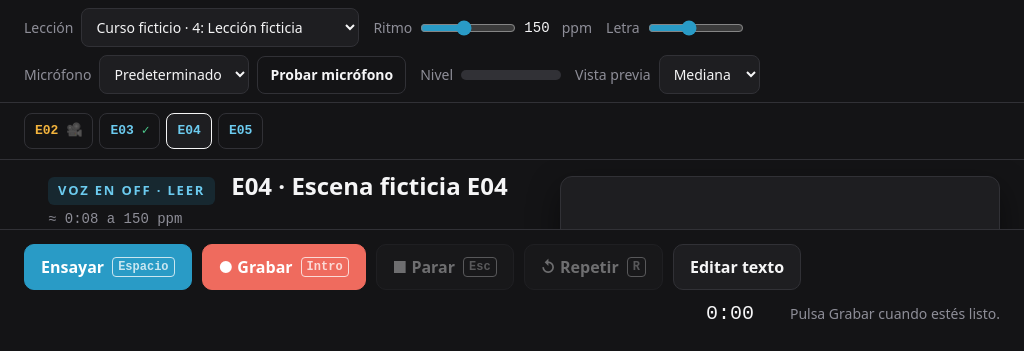
Test: Teleprompter › la toma ya grabada se carga con su versión
The image size is (1024, 351).
Click the button "E03 ✓" at (130, 131), box [99, 113, 160, 149]
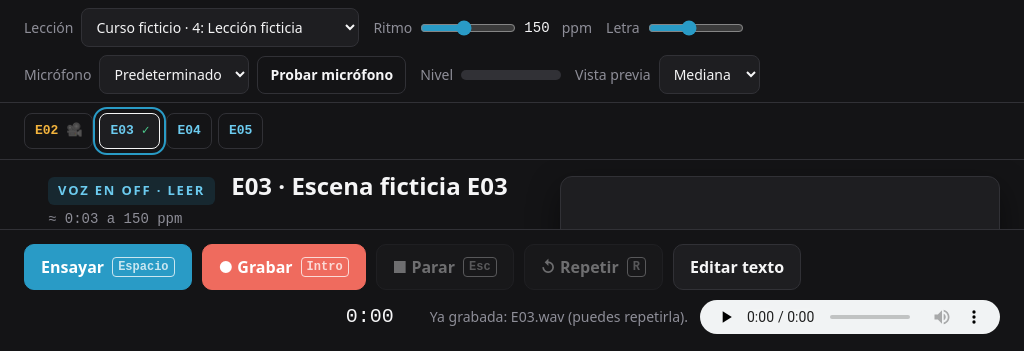
Expected: the message reads "Ya grabada: E03.wav (puedes repetirla).", [430, 306, 688, 326]
